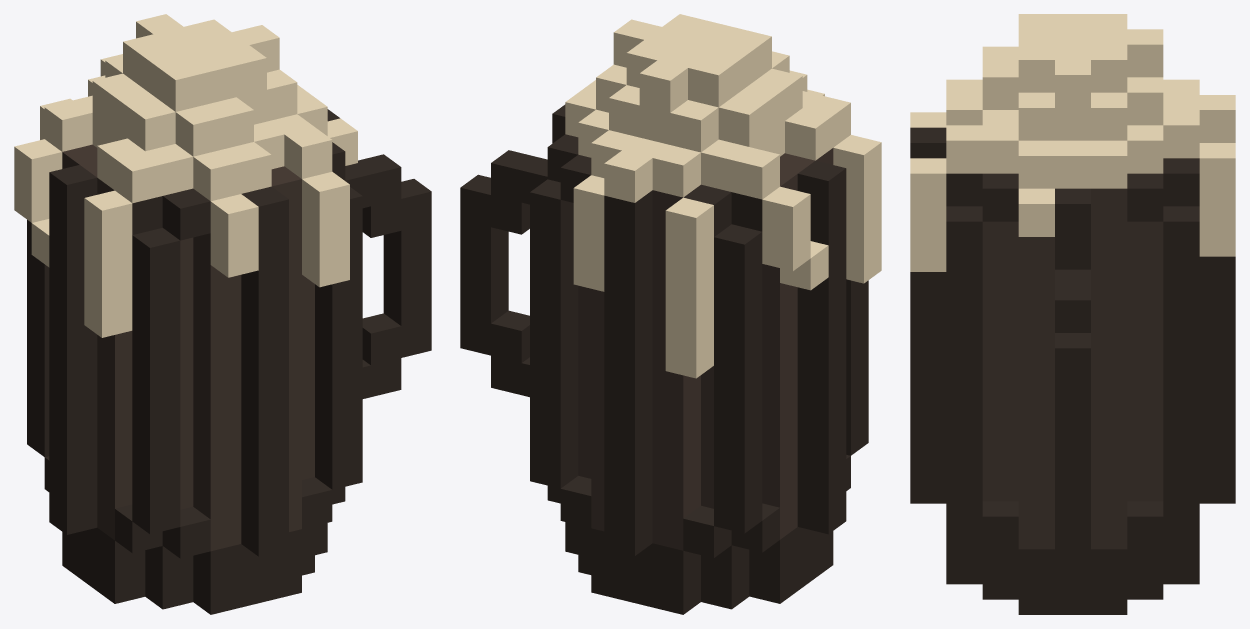
File: MugFullBeer.obj
The picture shows the model from 3 angles, left to right: view 1: azimuth 30°, elevation 25°; view 2: azimuth 150°, elevation 25°; view 3: azimuth 270°, elevation 25°; orthographic projection. The views are drawn at different scales.
Bounding box in the file's own units: 1.2 × 1.6 × 0.9.
1 material, 1 textured.
